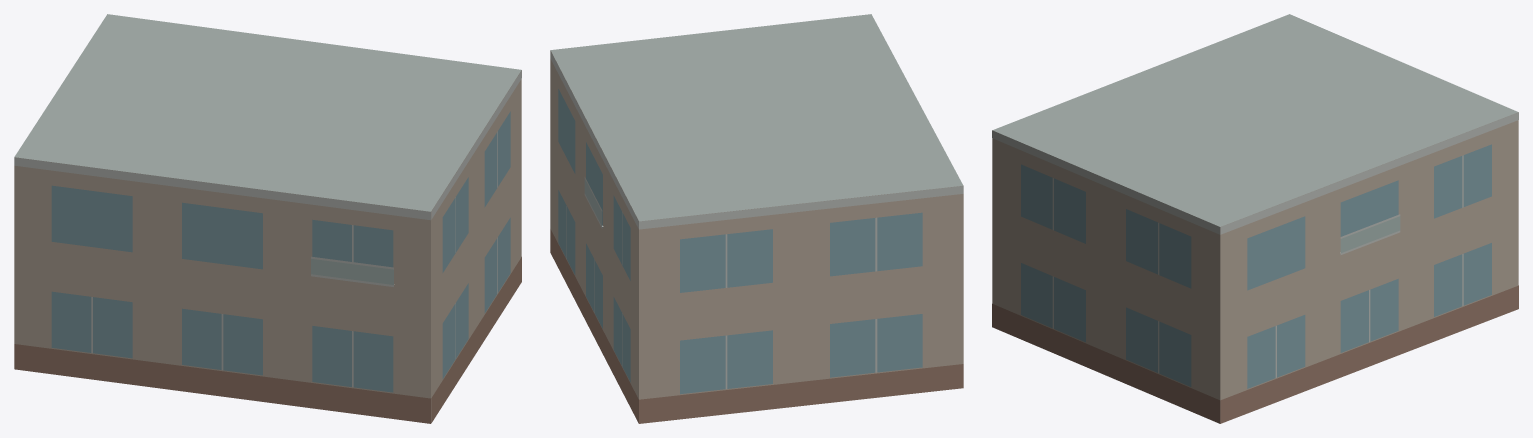
File: survey-upis-32936473.glb
3 renders of one model, left to right at view 1: azimuth 30°, elevation 25°; view 2: azimuth 150°, elevation 25°; view 3: azimuth 270°, elevation 25°, orthographic. The views are drawn at different scales.
Visible parts, largest first — view 1: survey-upis-32936473.tmp; view 2: survey-upis-32936473.tmp; view 3: survey-upis-32936473.tmp.
Part boxes in pixels (x1=…): survey-upis-32936473.tmp: x1=14, y1=14, x2=521, y2=423; survey-upis-32936473.tmp: x1=550, y1=14, x2=963, y2=423; survey-upis-32936473.tmp: x1=992, y1=14, x2=1518, y2=423.
Size of the model in its own units: 14.16 by 6.1 by 14.79.
